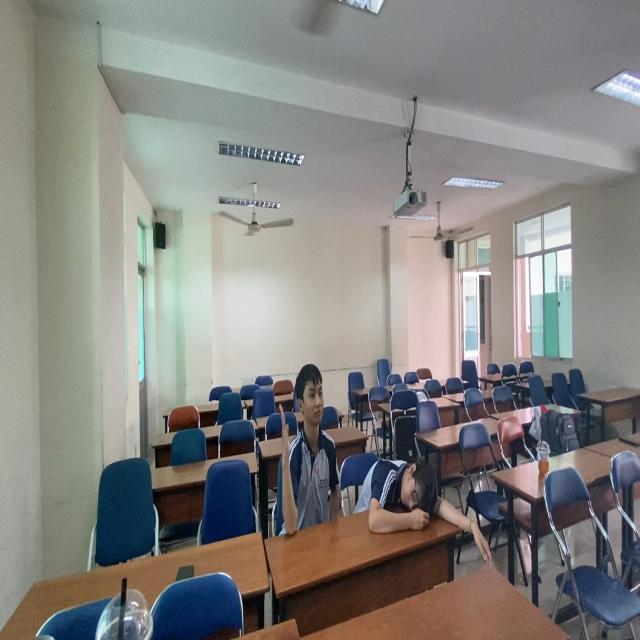raise_hand: (275, 358, 345, 525)
sleep: (354, 441, 461, 539)
